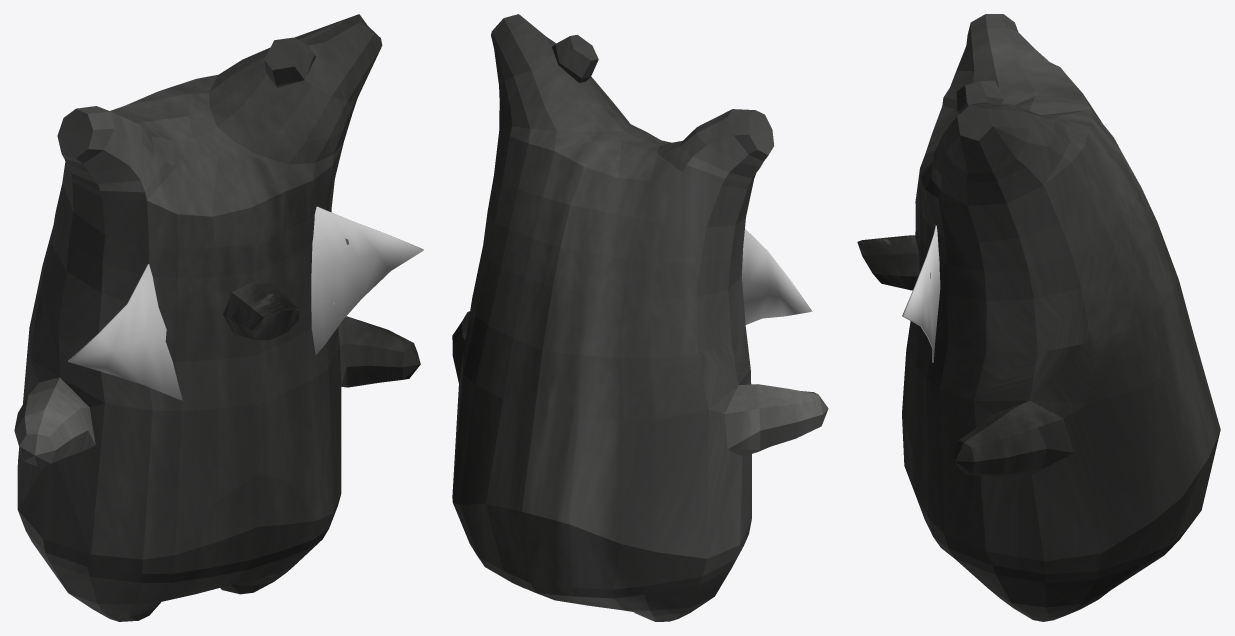
The model's file is frame_0015.obj.
3 views of the same model, side by side, from view 1: azimuth 30°, elevation 25°; view 2: azimuth 150°, elevation 25°; view 3: azimuth 270°, elevation 25° (orthographic). The views are drawn at different scales.
Parts seen in each view (by area): view 1: korok, leaf, nose; view 2: korok, leaf; view 3: korok, nose, leaf.
Boxes of the visible parts, x1,y1,x2,y2 form: korok: (14, 14, 420, 621); leaf: (68, 206, 423, 400); nose: (223, 281, 299, 340); korok: (452, 14, 828, 621); leaf: (741, 229, 811, 324); korok: (902, 14, 1220, 621); nose: (857, 235, 919, 290); leaf: (902, 225, 940, 362).
Size of the model in its own units: 1.58 by 2.22 by 1.33.
